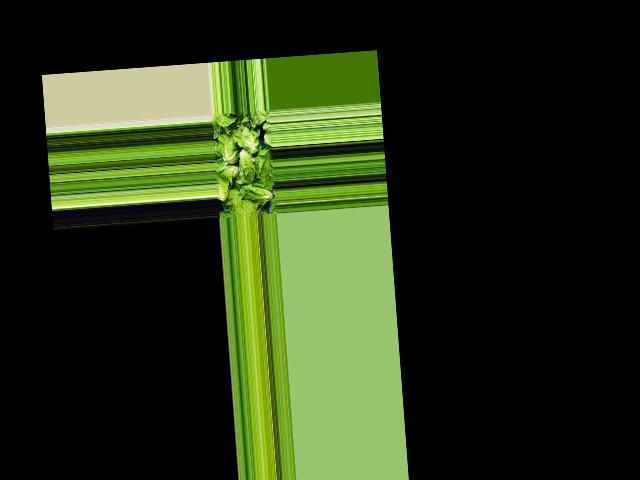lettuce: (216, 170, 231, 206)
